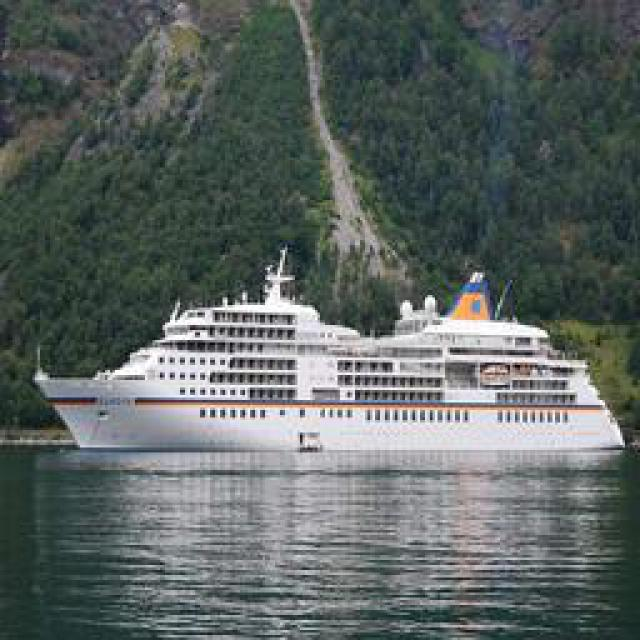Ship: (31, 254, 624, 464)
